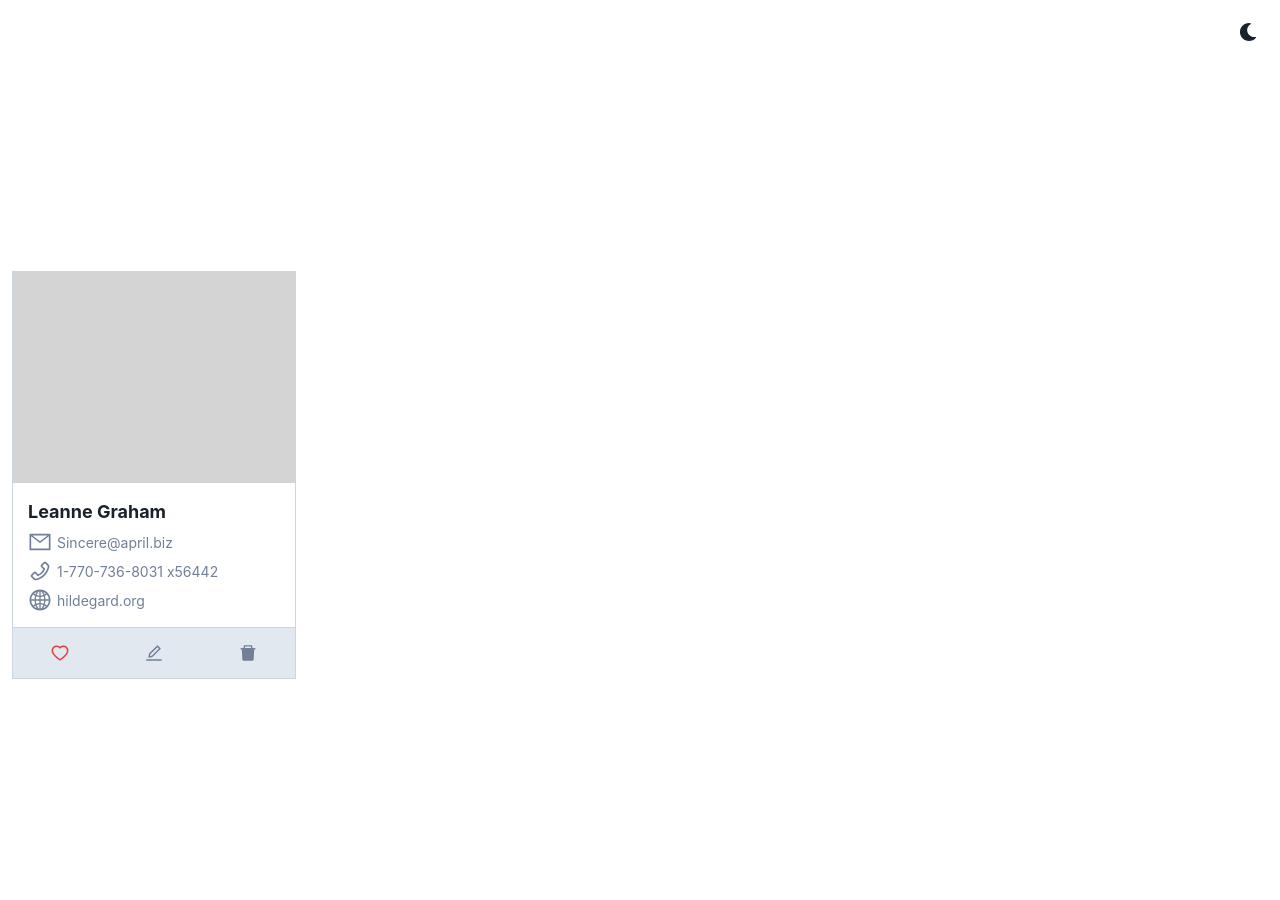
Test case: <App /> › edit user works
Click the button with test id "button-user-edit" at (154, 653), box left=134, top=633, right=174, bottom=673
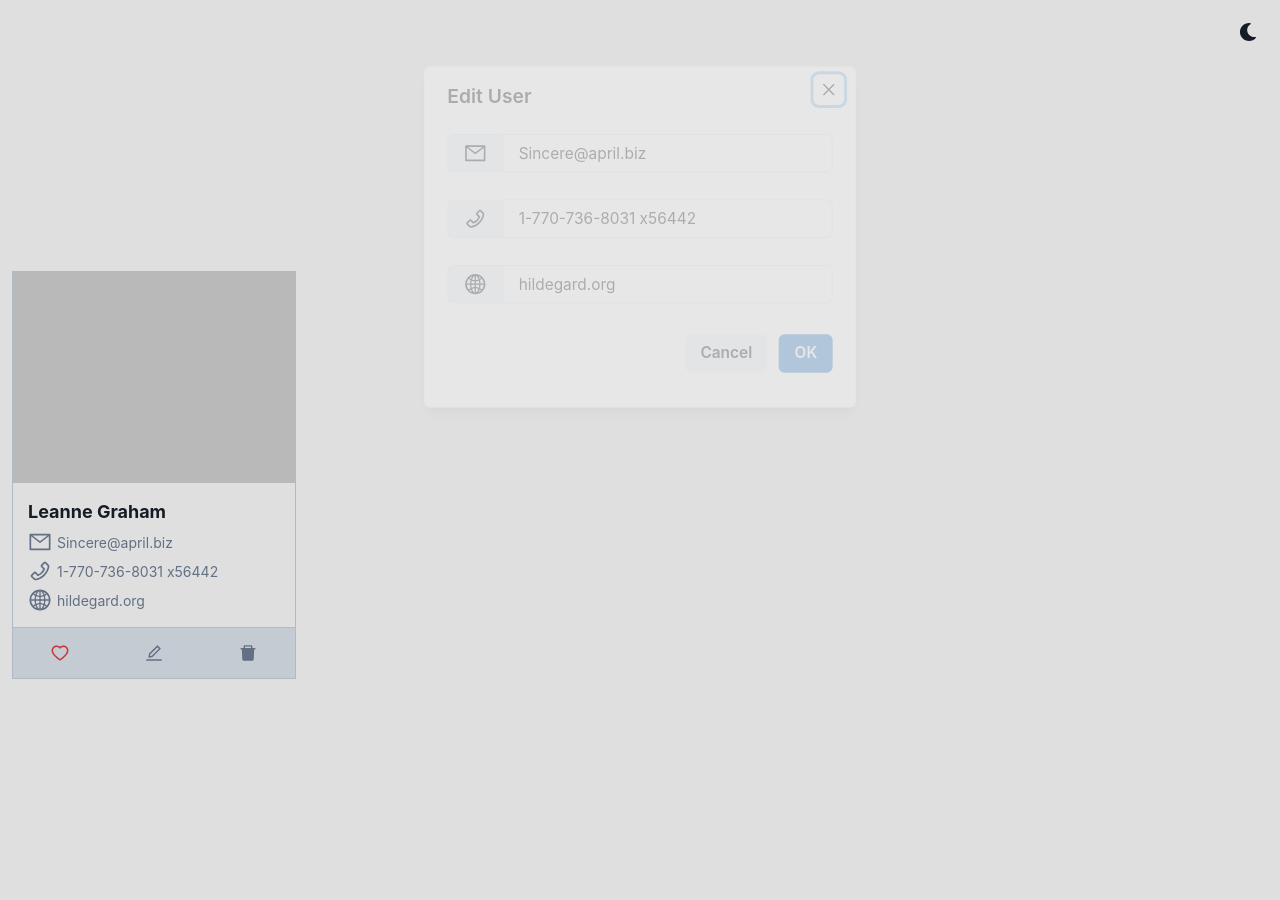
Replace the text in the field with test id "email-input" with "testuser@email.com" at (668, 153), box left=502, top=134, right=833, bottom=172
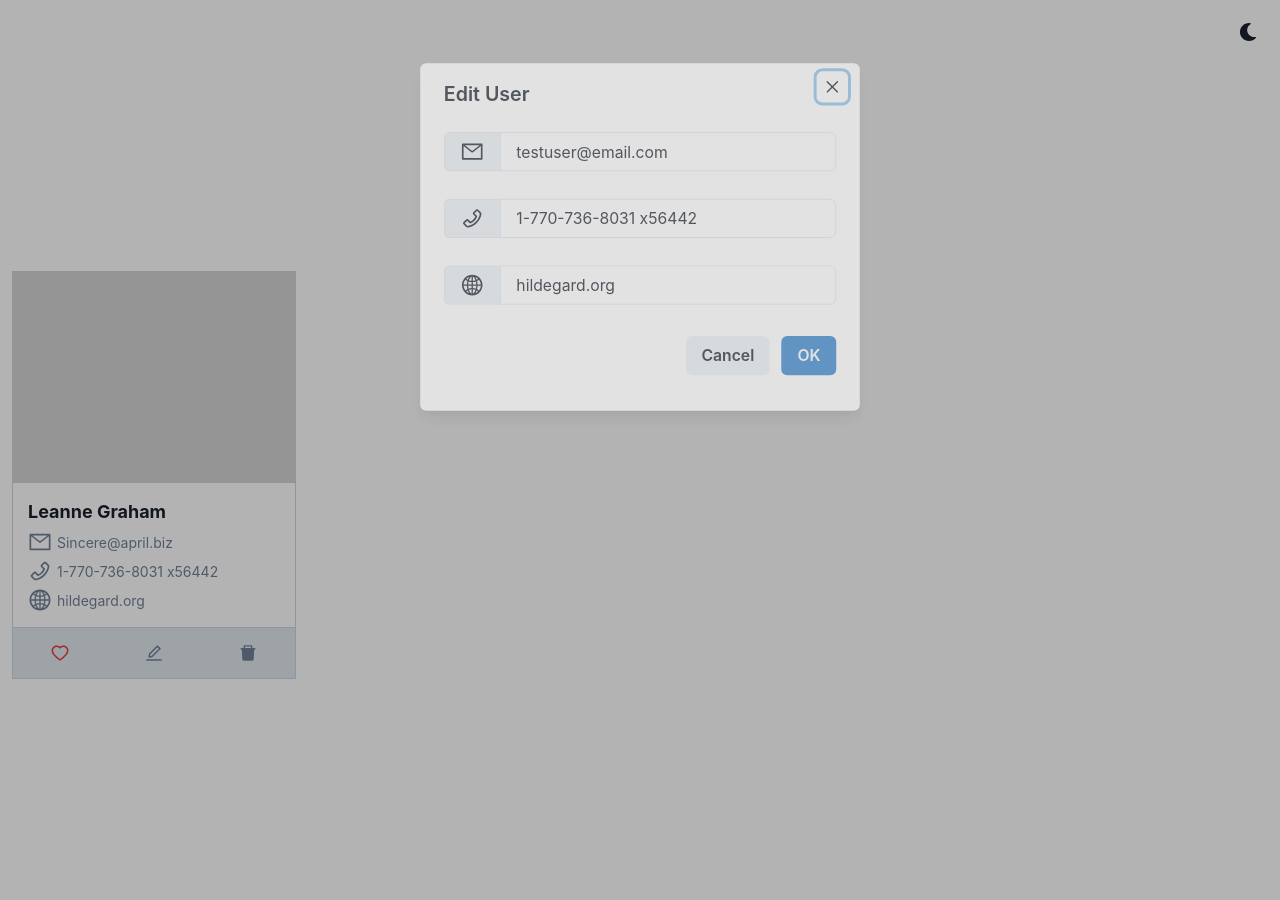
Replace the text in the field with test id "phone-input" with "testphonenumber" at (668, 218), box left=500, top=199, right=836, bottom=238
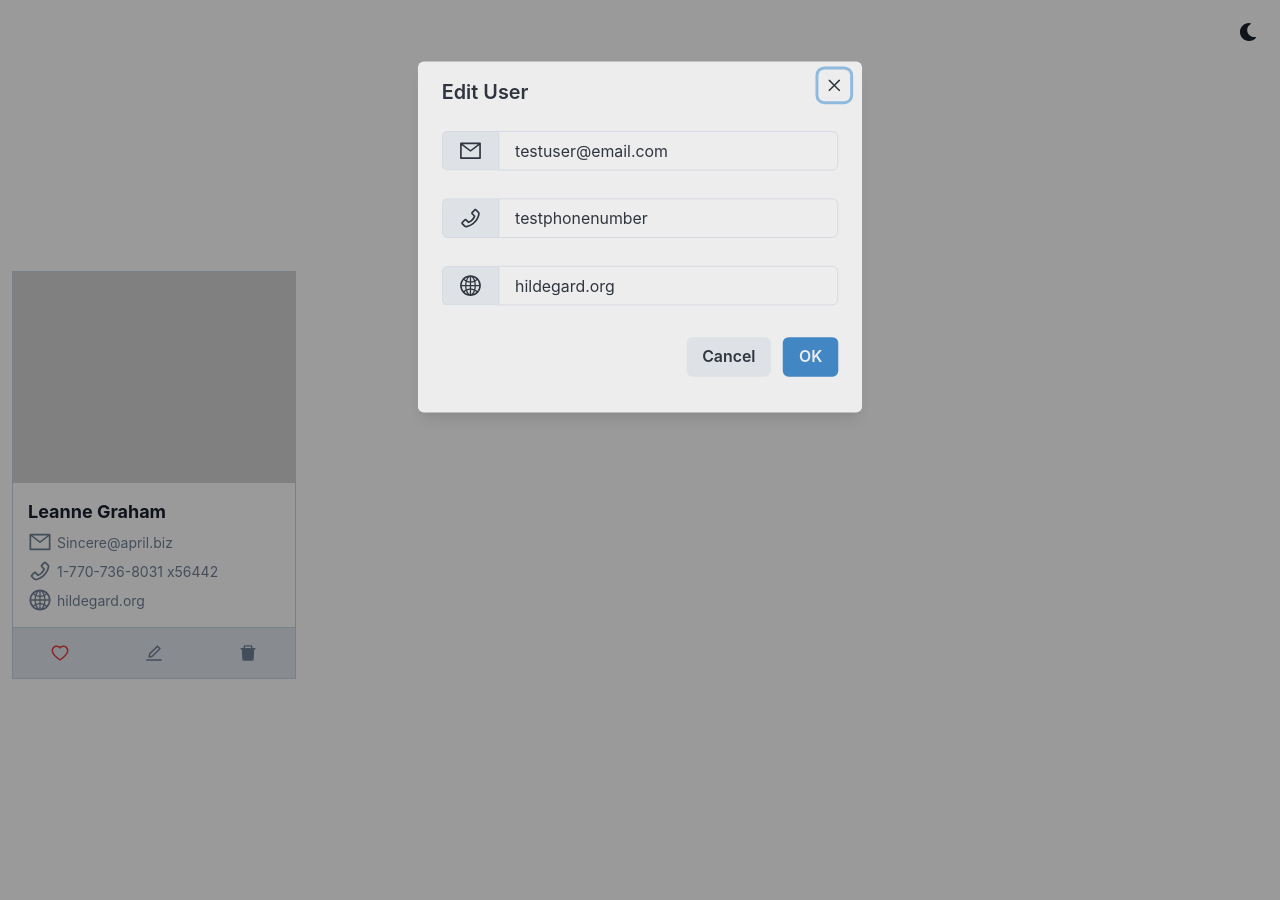
Replace the text in the field with test id "website-input" with "testwebsite" at (668, 286), box left=498, top=266, right=838, bottom=305
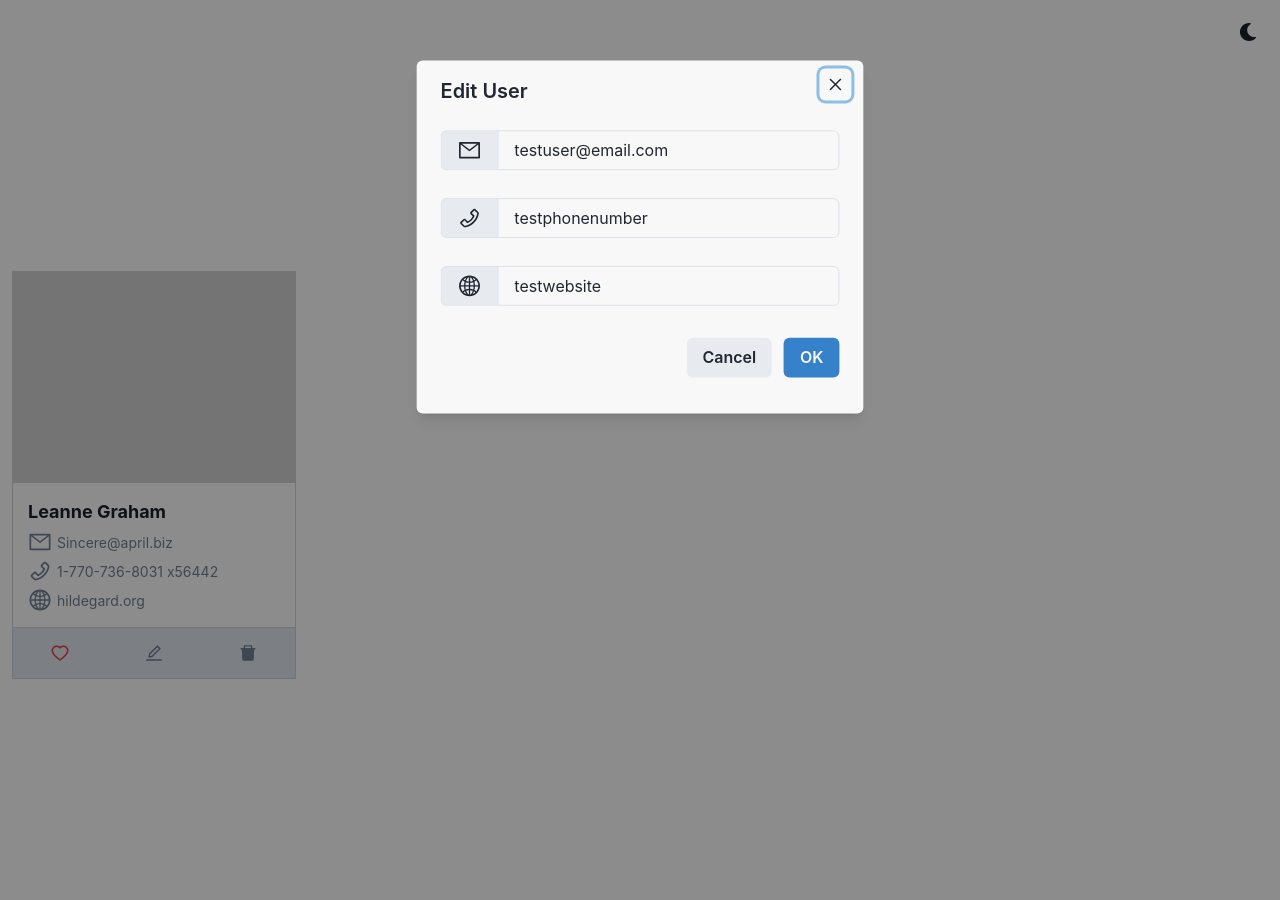
Click the button with test id "confirm-edit" at (812, 358), box left=784, top=338, right=839, bottom=378
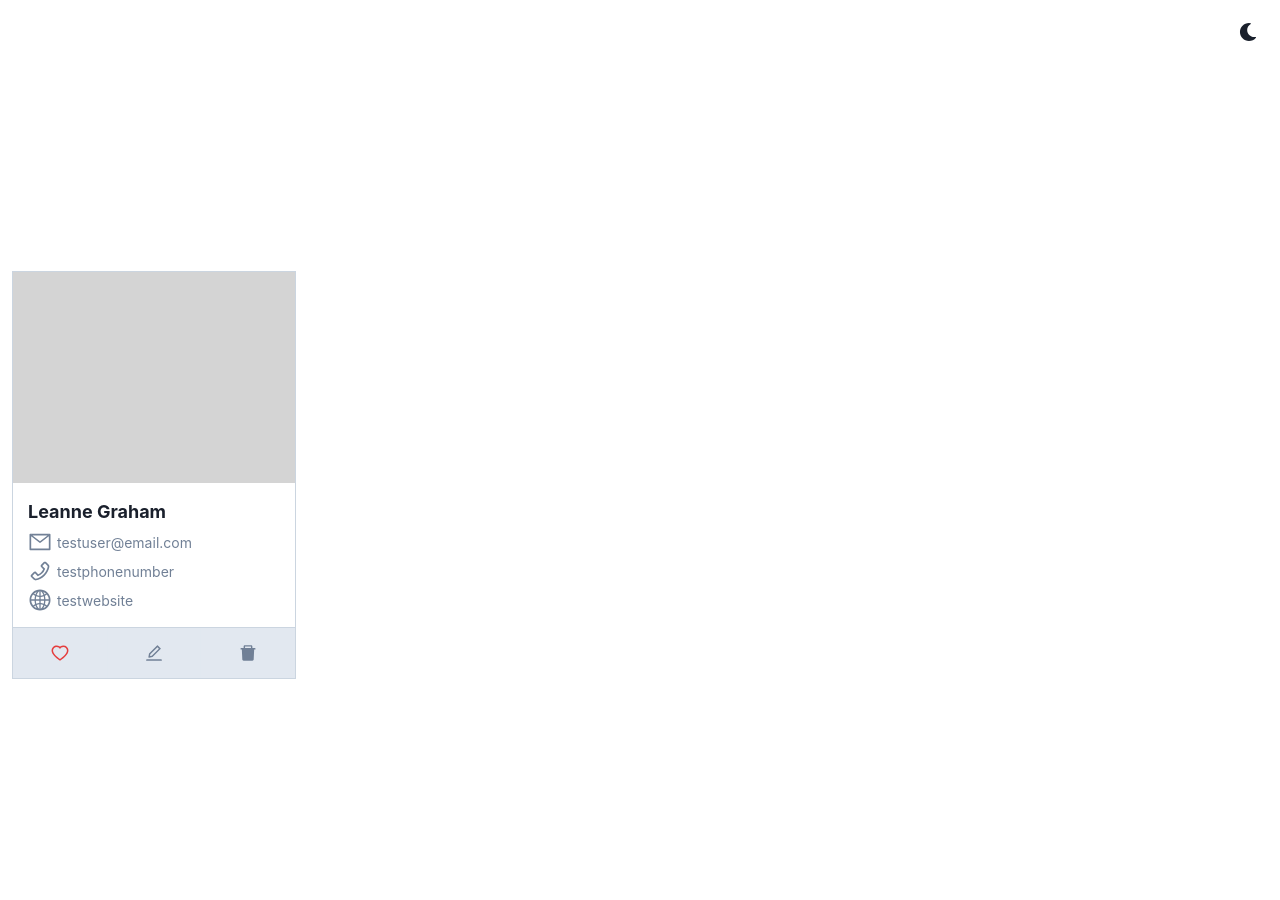
Check: the text "testuser@email.com" is shown, box left=28, top=530, right=192, bottom=554
Check: the text "testphonenumber" is shown, box left=28, top=559, right=174, bottom=583
Check: the text "testwebsite" is shown, box left=28, top=588, right=133, bottom=612
